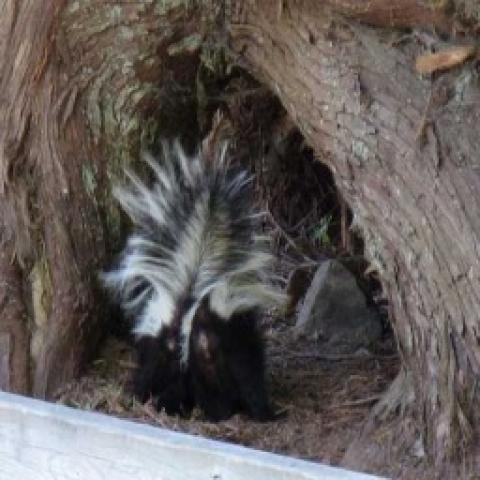small_animal: (111, 148, 290, 420)
